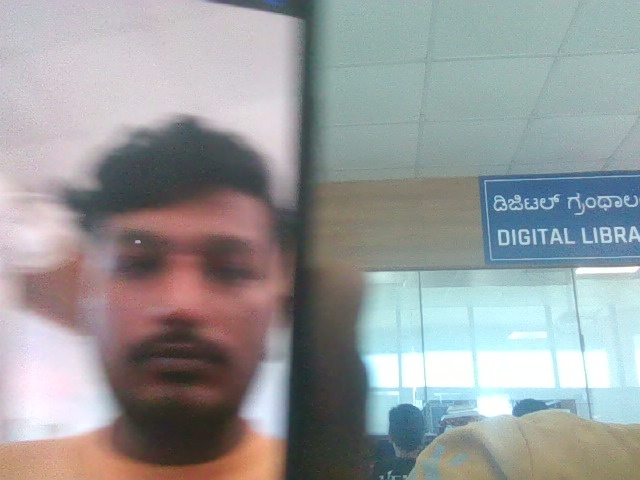fake: (55, 93, 305, 448)
